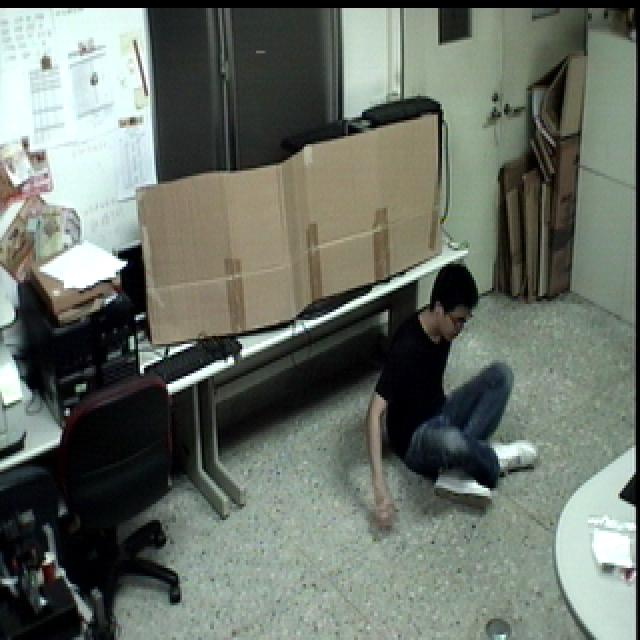sit: (356, 256, 539, 543)
